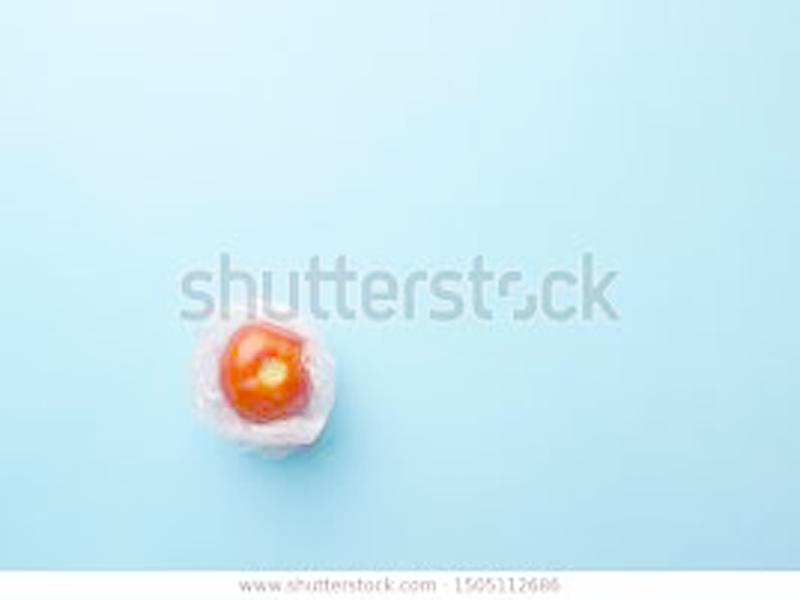Tomato: (221, 322, 313, 421)
